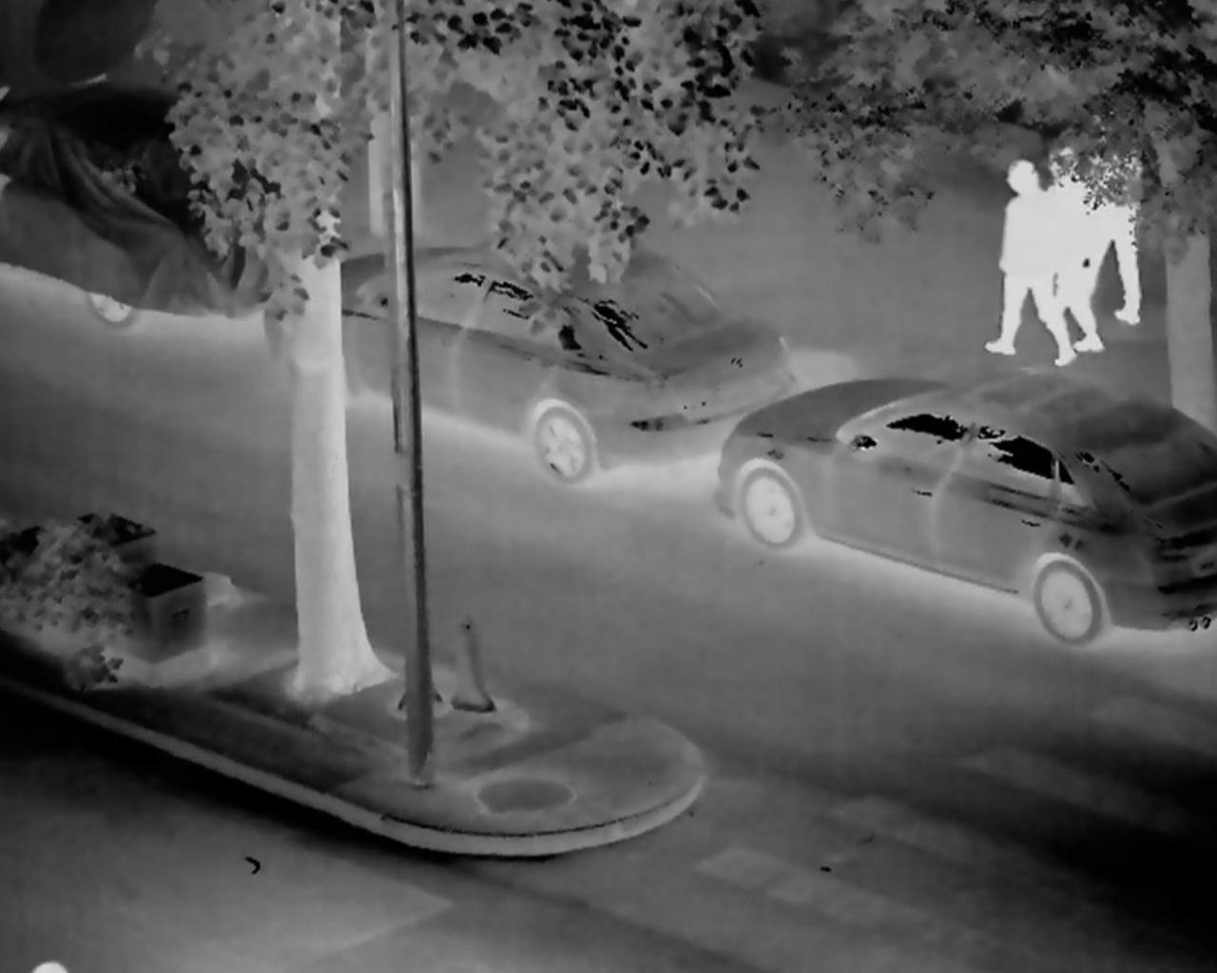person: (993, 166, 1069, 373), (1039, 129, 1099, 341), (1087, 130, 1147, 334)
